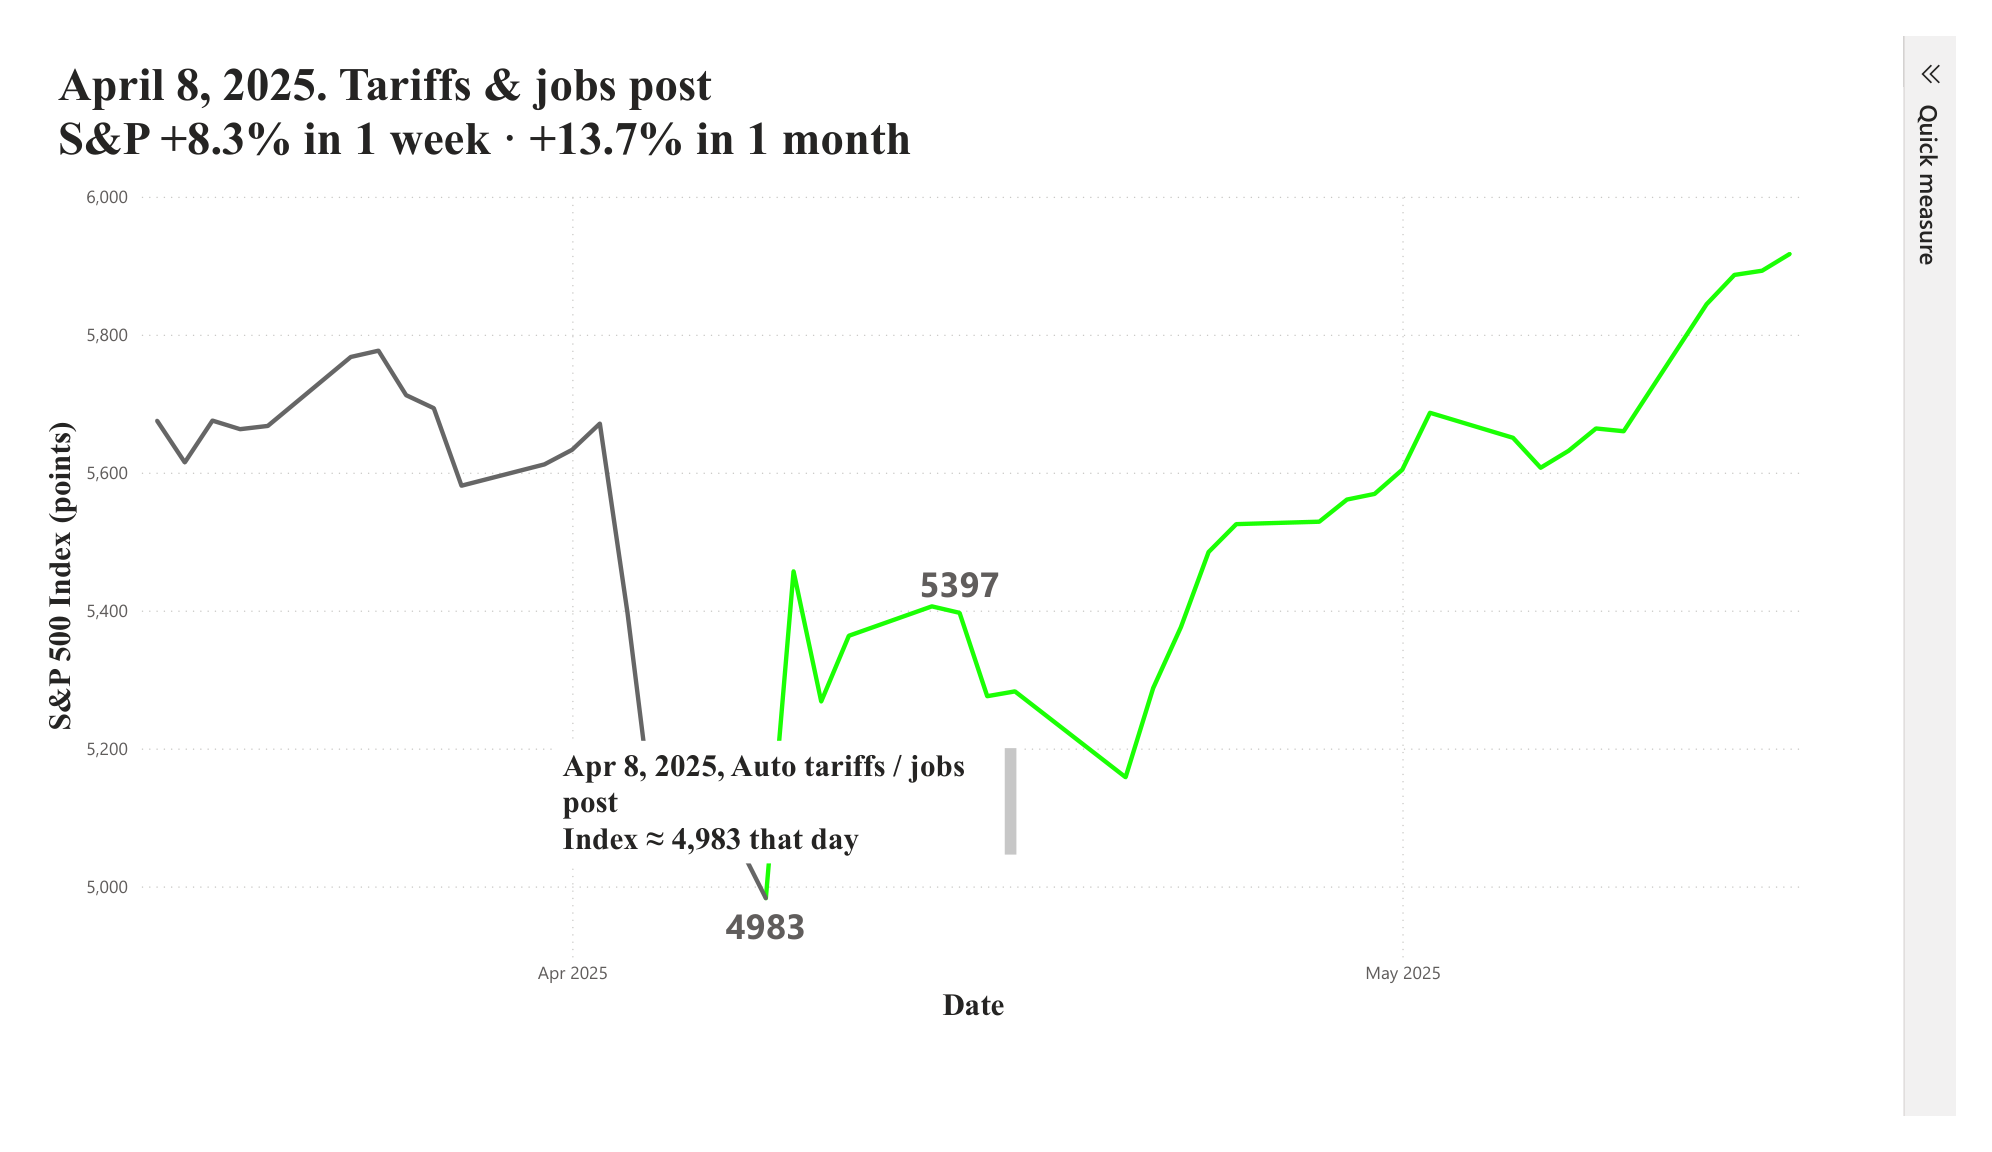

Layout of this report page (visuals, bound fields, positions):
{"tool":"powerbi","page":{"name":"SP500 - Apr 2025","canvas":[1280,720],"ordinal":8},"visuals":[{"type":"textbox","box":[10,0,828.6,98.6],"z":0},{"type":"lineChart","fields":{"Category":["Market_Prices.date_only"],"Y":["Market_Prices.SP_Apr8_Labels","Market_Prices.SP_Apr8_Green","Market_Prices.SP_Apr8_Gray"]},"box":[0,85.7,1232.9,585.7],"z":1},{"type":"textbox","box":[355.7,472.9,321.4,84.3],"z":2}]}

Visuals, with their boxes on the page's 1280x720 design canvas (x1, y1, x2, y2). These are canvas units, not pixel positions in the 1992x1152 screenshot, which may show the page scaled, cropped or inside an application window:
textbox: 10:0:839:99
lineChart - Market_Prices.date_only x Market_Prices.SP_Apr8_Labels: 0:86:1233:671
textbox: 356:473:677:557
